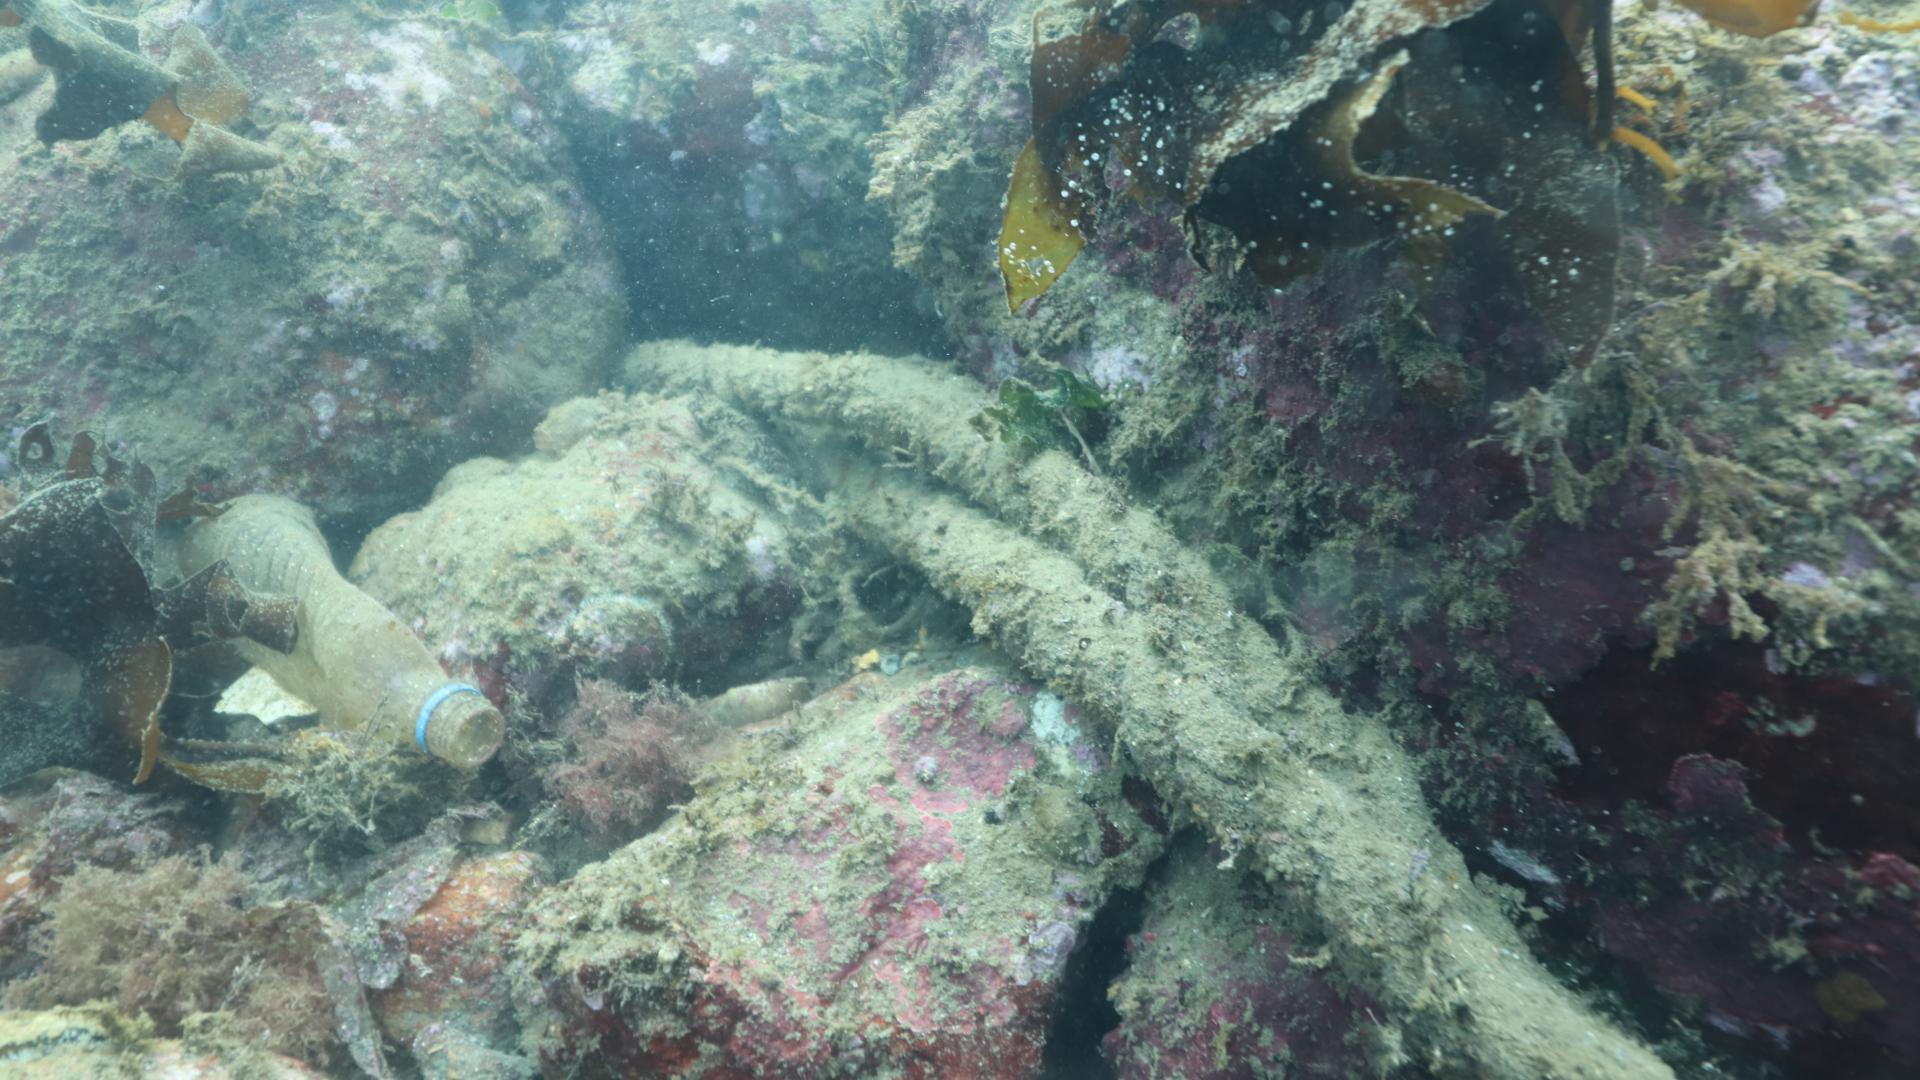bundle of ropes: (622, 340, 1677, 1080)
